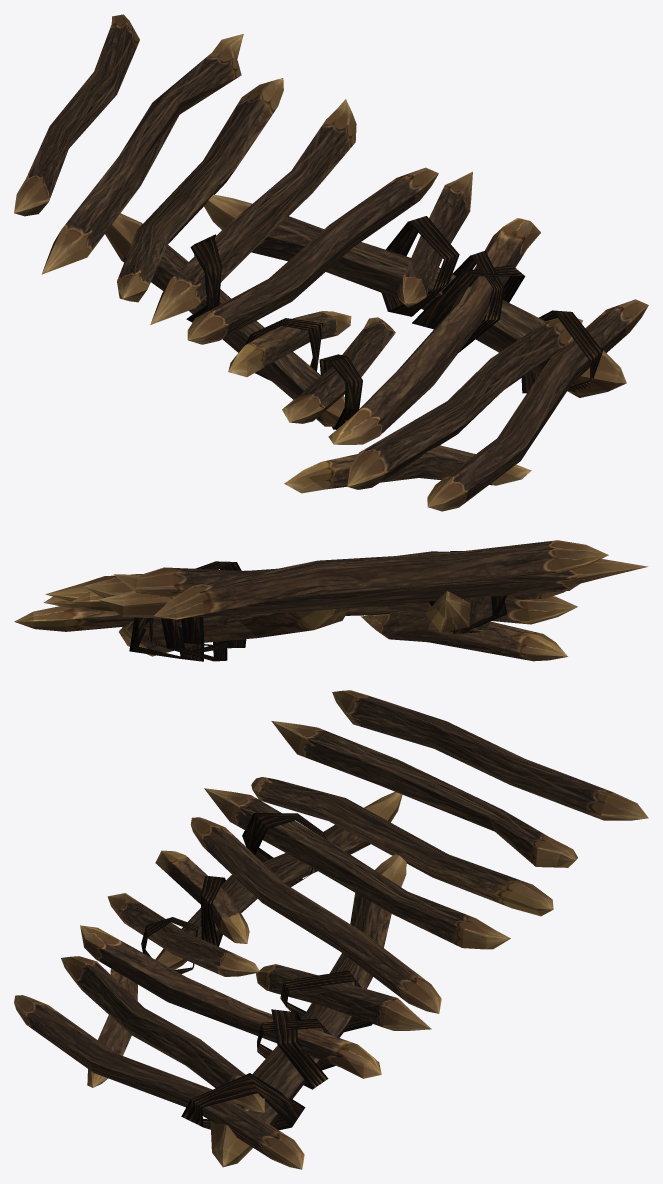
The model's file is lava_wallstair_diagonal_01.fbx.
The picture shows the model from 3 angles, top to bottom: view 1: azimuth 30°, elevation 25°; view 2: azimuth 150°, elevation 25°; view 3: azimuth 270°, elevation 25°; orthographic projection. The views are drawn at different scales.
Visible parts, largest first — view 1: obj0.142; view 2: obj0.142; view 3: obj0.142.
Part boxes in pixels (x1=…): obj0.142: x1=14, y1=14, x2=648, y2=511; obj0.142: x1=14, y1=540, x2=647, y2=661; obj0.142: x1=14, y1=690, x2=648, y2=1169.
Bounding box in the file's own units: 6.83 × 2.96 × 6.7.
